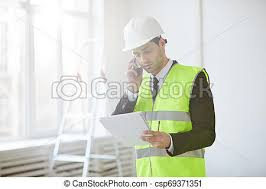Person_wearing_helmet: (118, 11, 171, 63)
